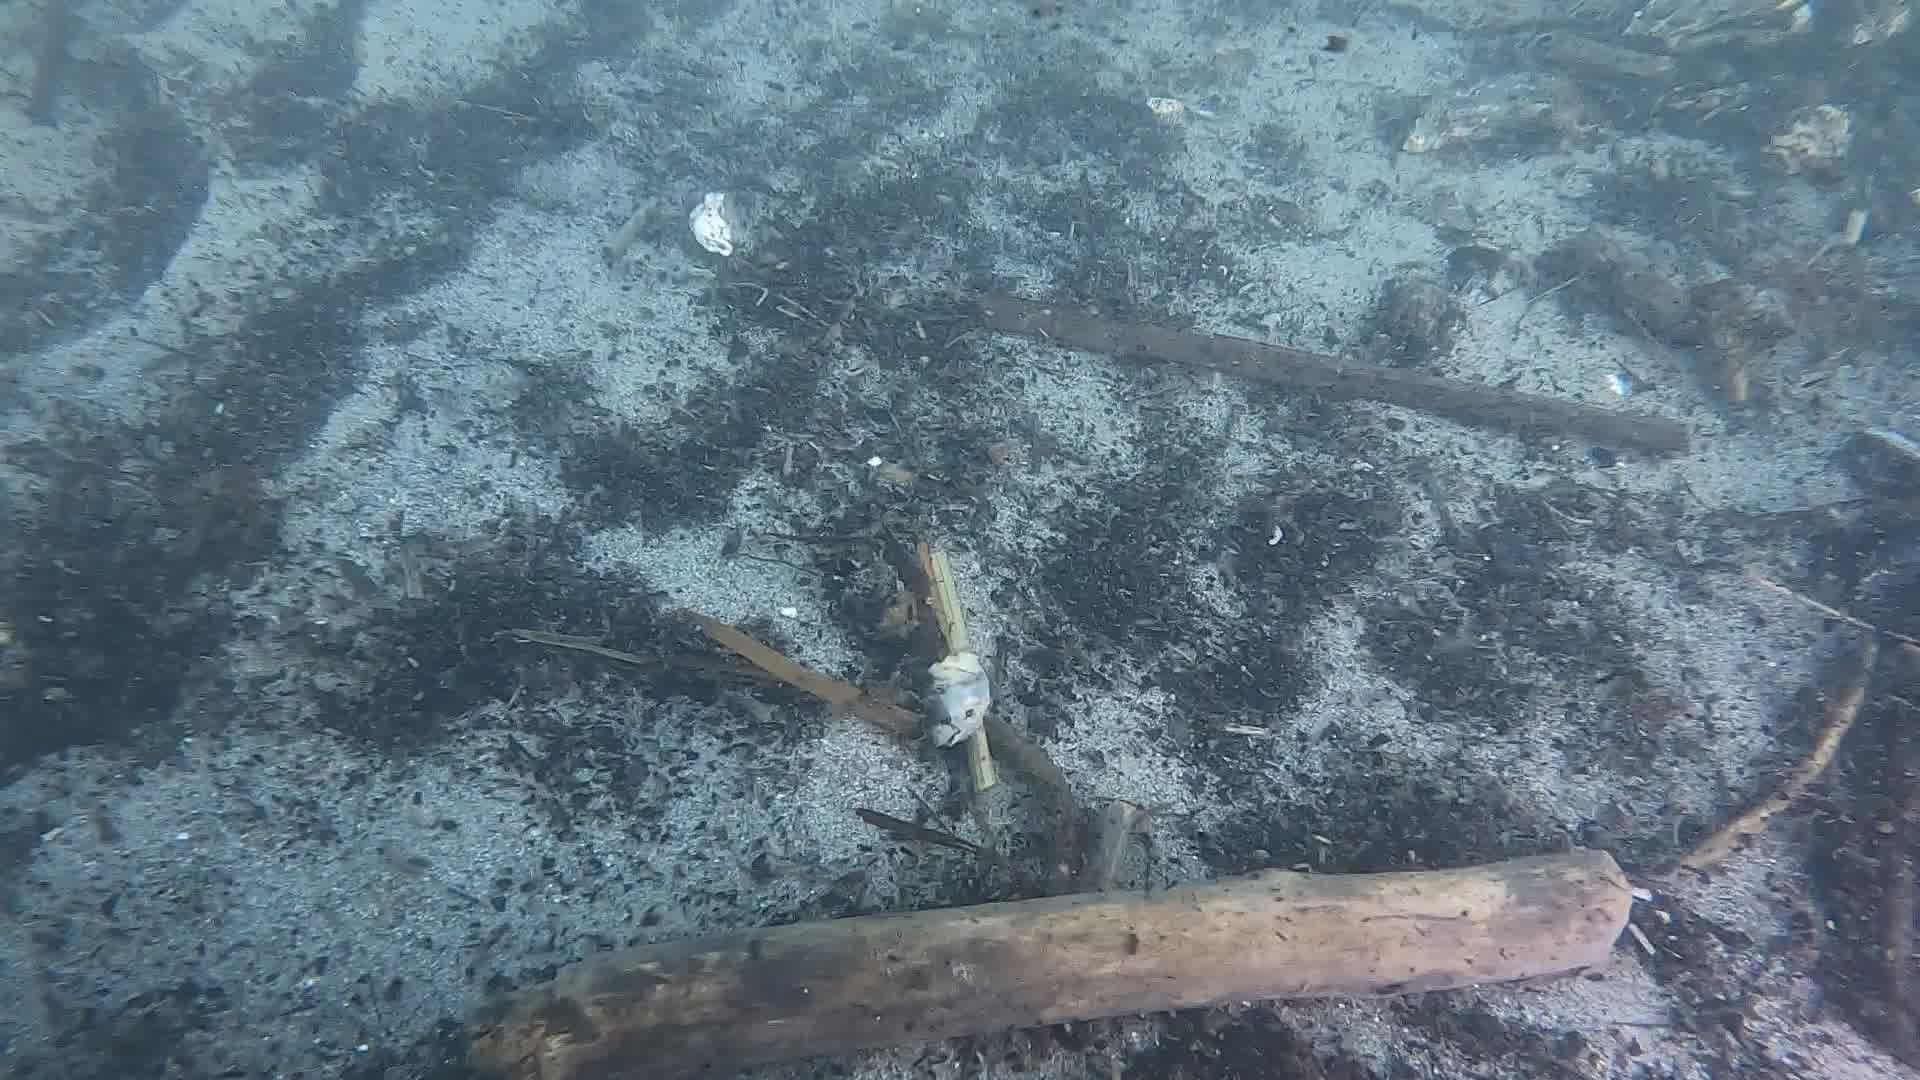wood: (464, 847, 1631, 1080), (975, 290, 1687, 444), (688, 549, 1000, 793), (1673, 636, 1876, 876)
